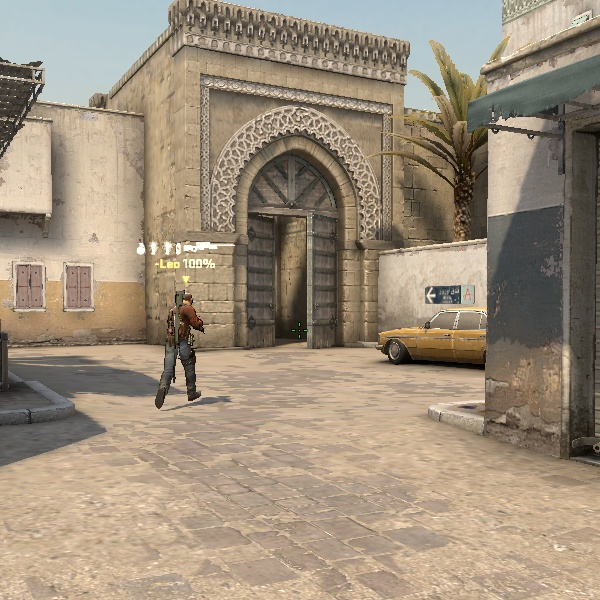t_body: (150, 290, 215, 407)
